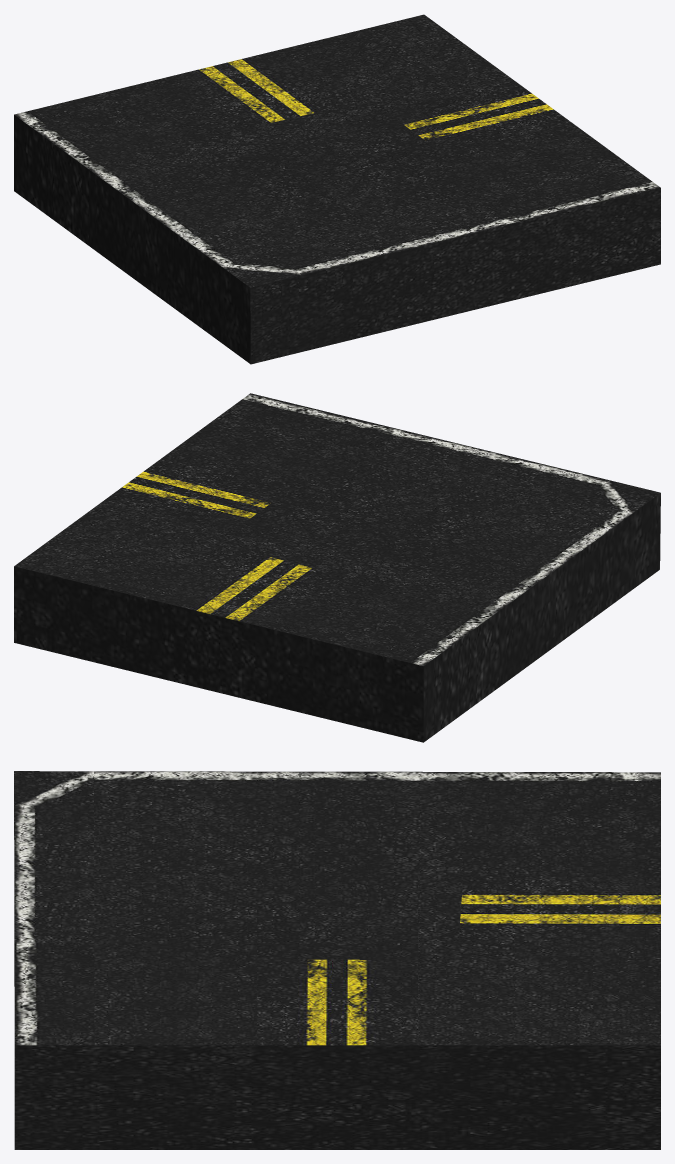
File: PavementTurn2.fbx
3 renders of one model, top to bottom at view 1: azimuth 30°, elevation 25°; view 2: azimuth 150°, elevation 25°; view 3: azimuth 270°, elevation 25°, orthographic. The views are drawn at different scales.
Parts seen in each view (by area): view 1: PavementTurn; view 2: PavementTurn; view 3: PavementTurn.
Boxes of the visible parts, bbox=[...] form: PavementTurn: bbox=[14, 14, 660, 364]; PavementTurn: bbox=[14, 393, 660, 742]; PavementTurn: bbox=[14, 771, 660, 1149].
Size of the model in its own units: 326 by 58.33 by 325.
1 material, 1 textured.
